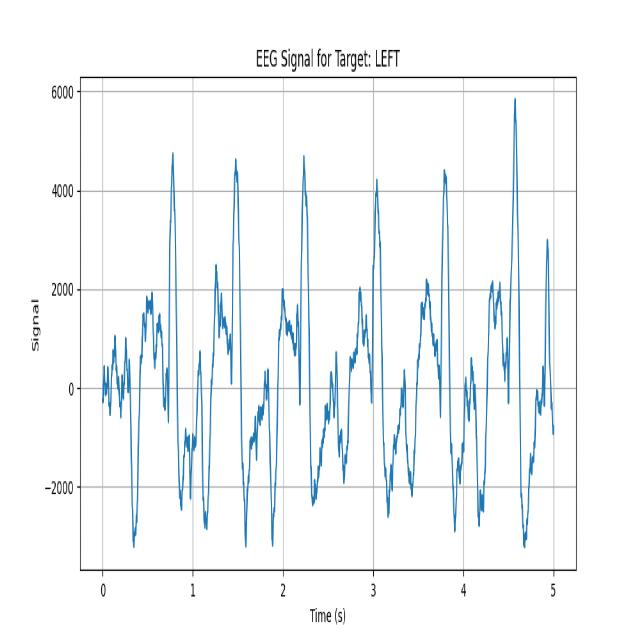LEFT: (470, 91, 547, 551), (120, 143, 195, 558), (327, 140, 401, 553), (401, 137, 472, 549), (260, 141, 329, 549), (195, 142, 260, 555)
